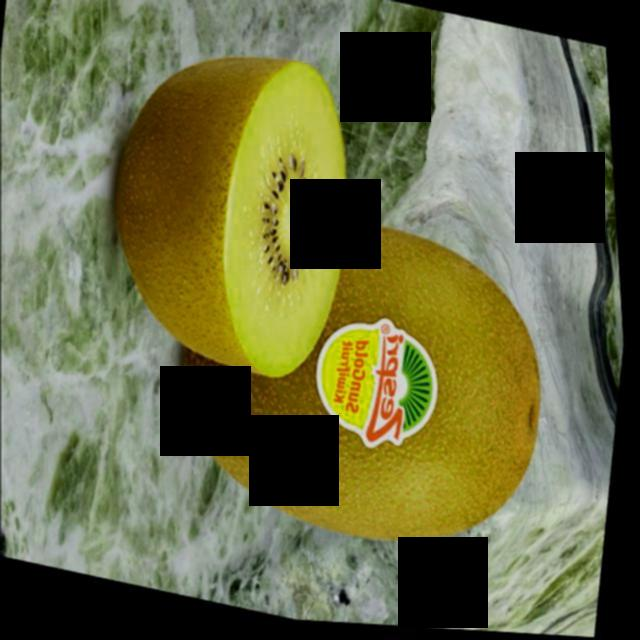kiwi: (147, 195, 576, 576)
